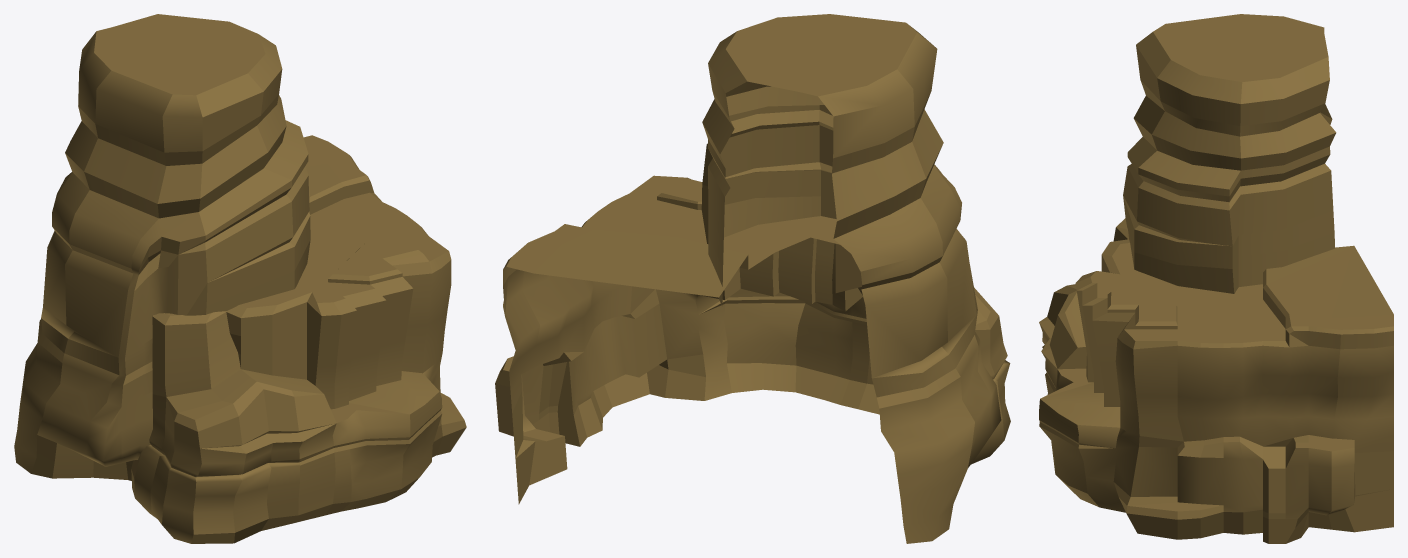
The model's file is StageParts_Wilds_S_Rock_model.fbx.
3 renders of one model, left to right at view 1: azimuth 30°, elevation 25°; view 2: azimuth 150°, elevation 25°; view 3: azimuth 270°, elevation 25°, orthographic. The views are drawn at different scales.
Parts seen in each view (by area): view 1: StageParts_Wilds_S_Rock_model, StageParts_Wilds_S_Rock_model2; view 2: StageParts_Wilds_S_Rock_model, StageParts_Wilds_S_Rock_model2; view 3: StageParts_Wilds_S_Rock_model2, StageParts_Wilds_S_Rock_model.
Boxes of the visible parts, x1,y1,x2,y2 form: StageParts_Wilds_S_Rock_model: (14, 14, 310, 480); StageParts_Wilds_S_Rock_model2: (131, 135, 466, 543); StageParts_Wilds_S_Rock_model: (701, 14, 1001, 543); StageParts_Wilds_S_Rock_model2: (495, 175, 1010, 504); StageParts_Wilds_S_Rock_model2: (1039, 218, 1393, 543); StageParts_Wilds_S_Rock_model: (1123, 14, 1336, 293).
Size of the model in its own units: 1348 by 1354 by 1122.
